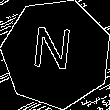N_S: (34, 27, 79, 81)
